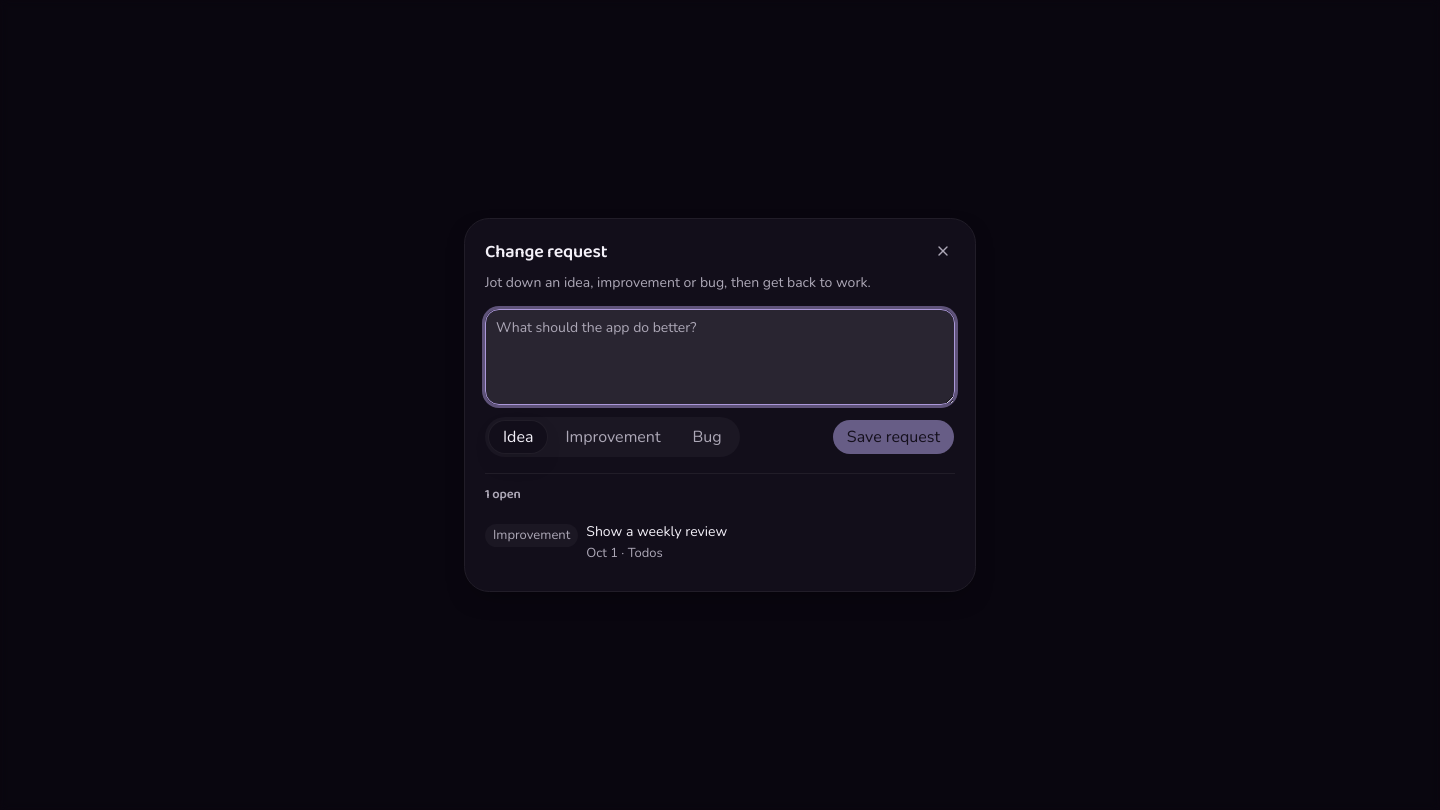
Test: ChangeRequestDialog › saves a typed note with its type and screen, then clears the box
Type "Bigger timer" into the text box named "Request text".
click(720, 357); type("Bigger timer")  # box [485, 309, 955, 405]
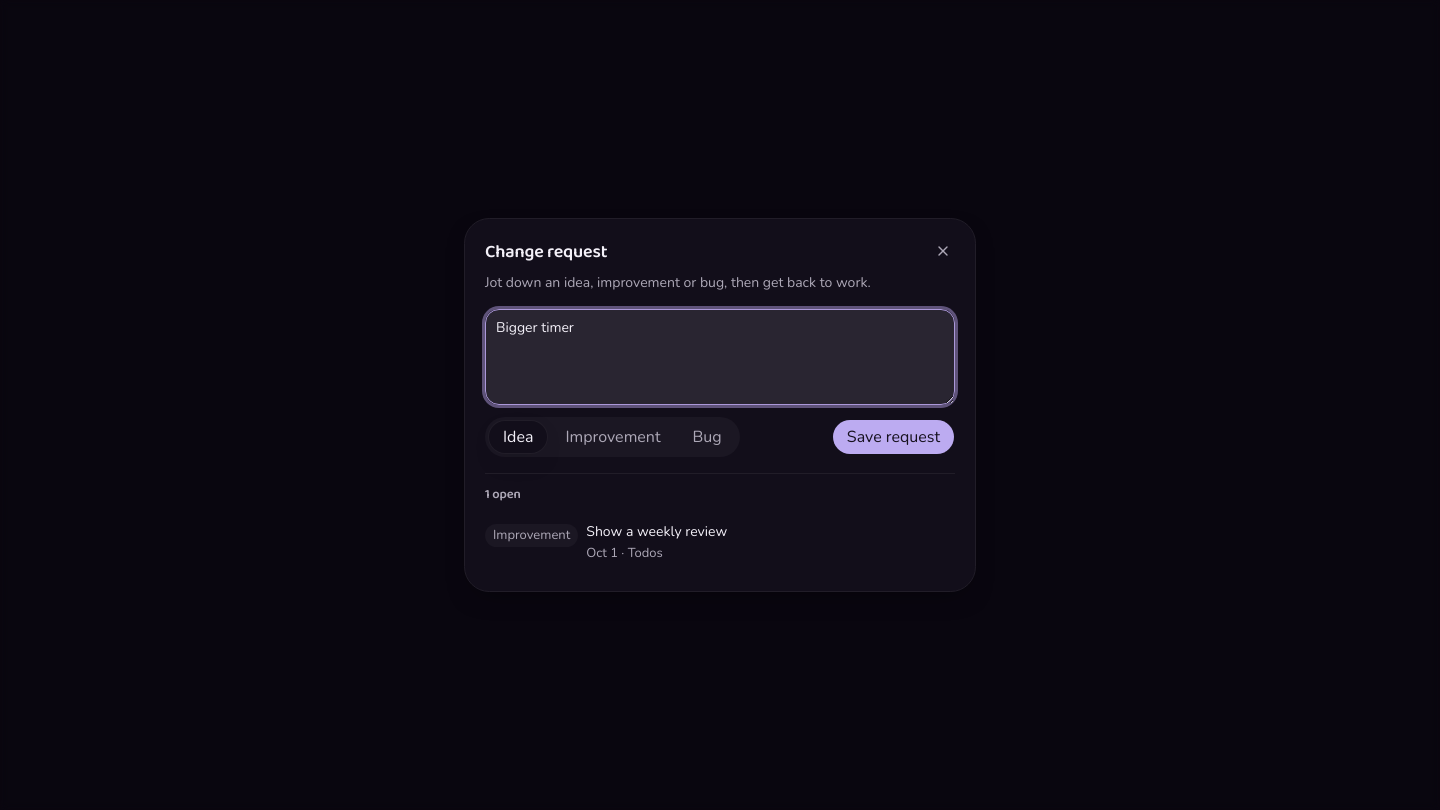
Click the radio button labelled "Bug".
click(707, 437)  # box [678, 421, 736, 453]
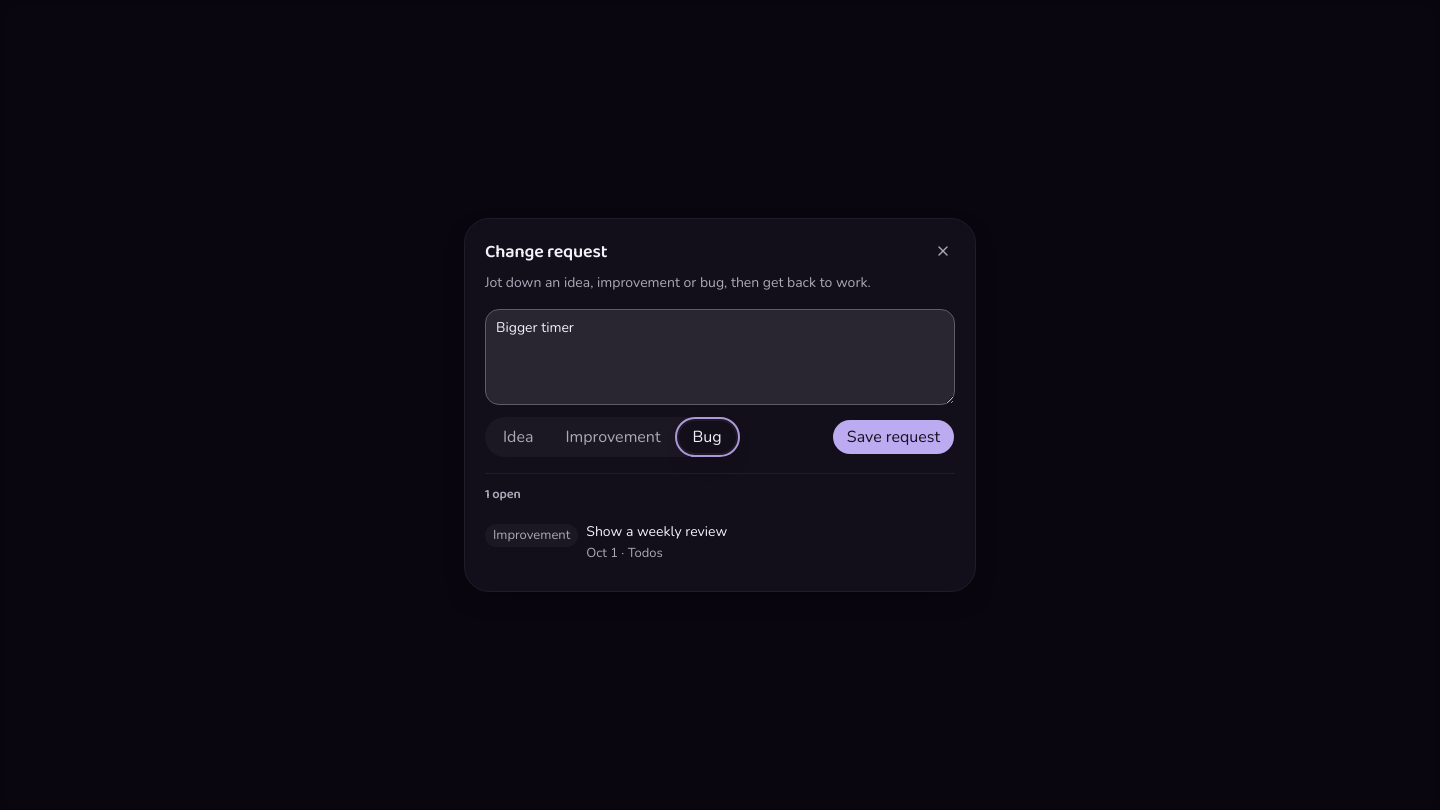
Click the button "Save request".
click(893, 437)  # box [832, 419, 955, 455]
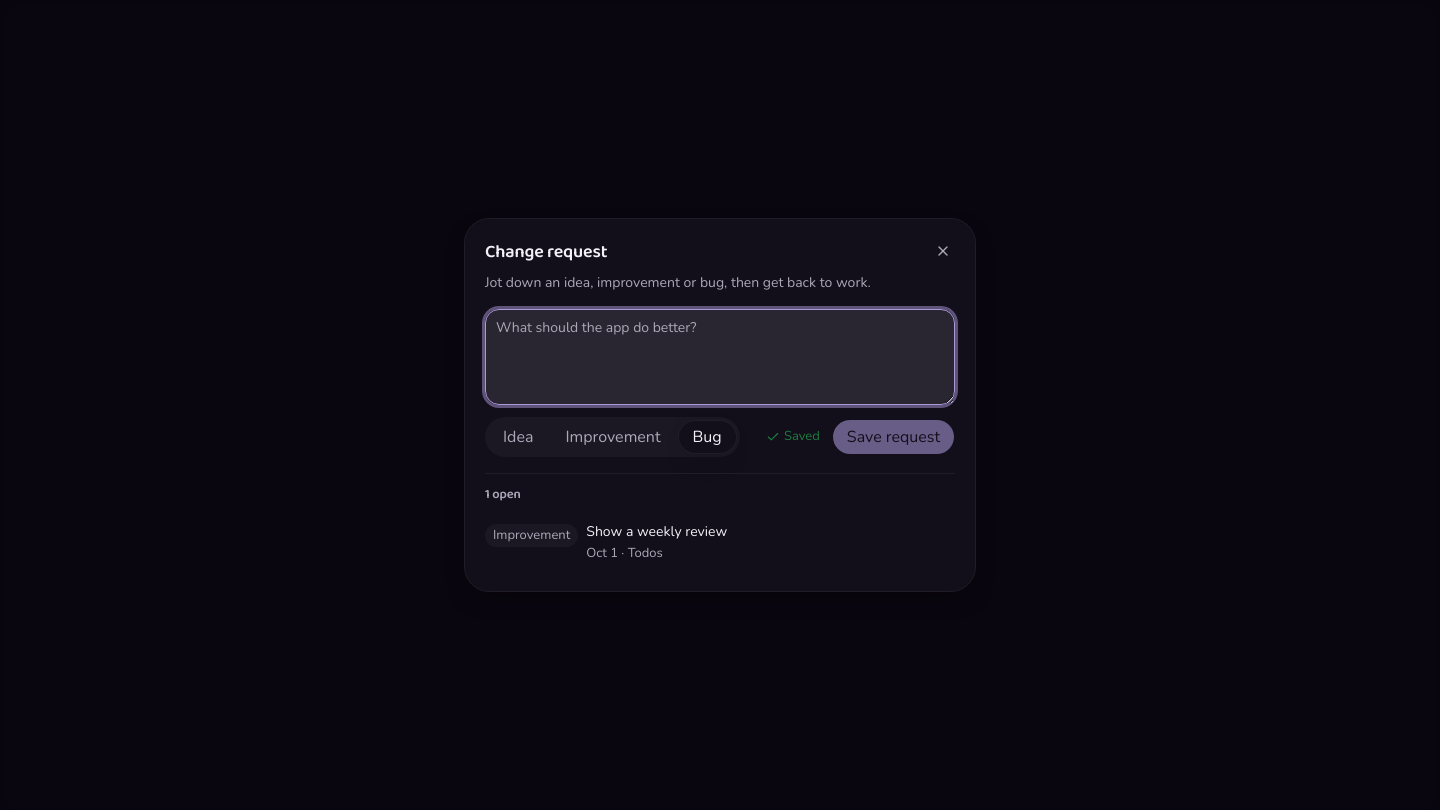
Check: the text box named "Request text" is empty, box [485, 309, 955, 405]
Check: the message reads "Saved", box [784, 427, 820, 445]
